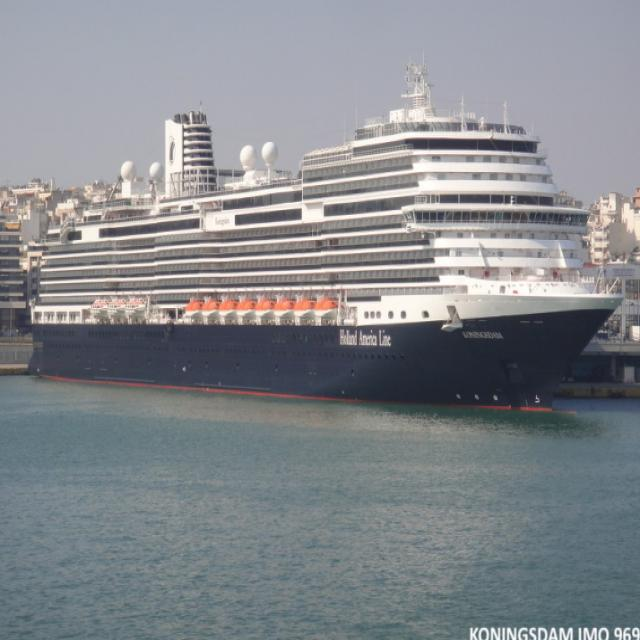cruises: (24, 63, 627, 429)
